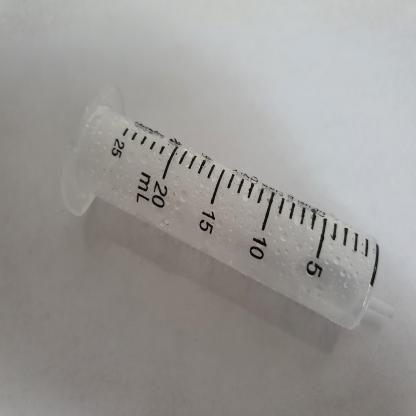wet: (54, 72, 401, 346)
